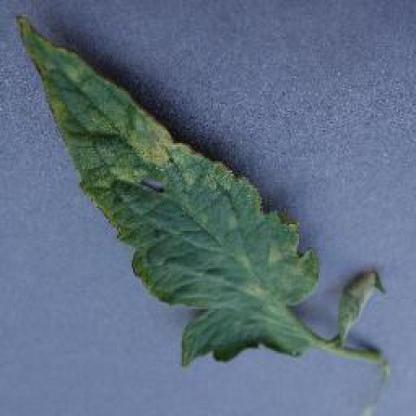Tomato_Leaf_Mold: (15, 16, 318, 363)
